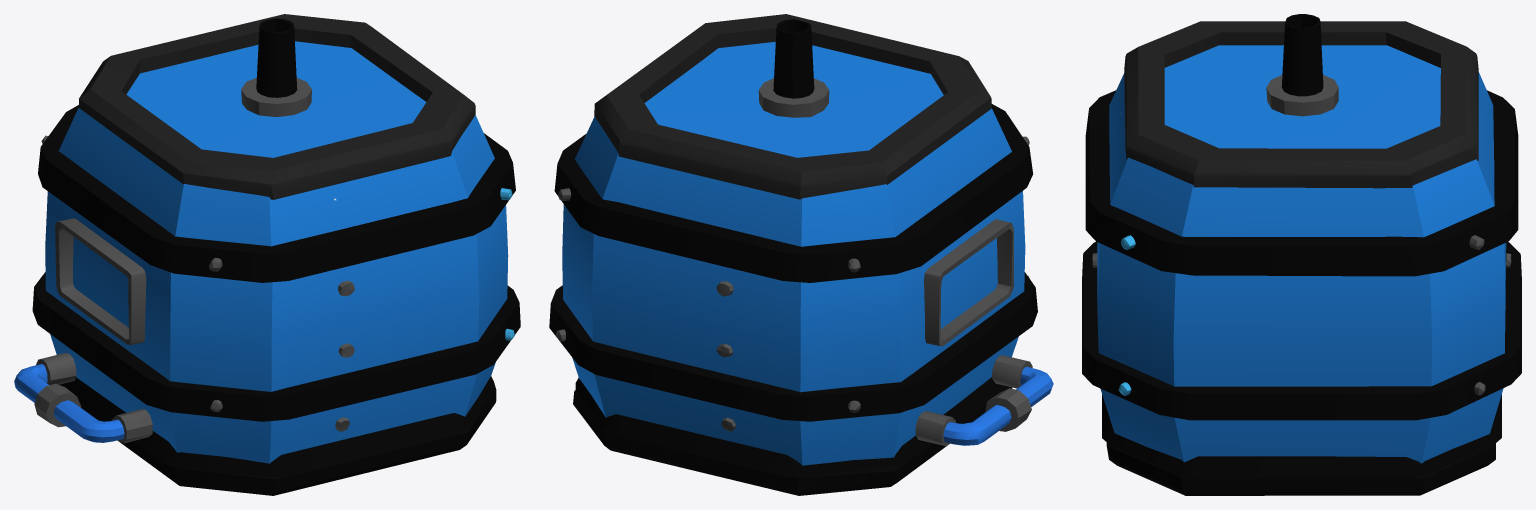
File: heist1.fbx
The picture shows the model from 3 angles, left to right: view 1: azimuth 30°, elevation 25°; view 2: azimuth 150°, elevation 25°; view 3: azimuth 270°, elevation 25°; orthographic projection. The views are drawn at different scales.
Visible parts, largest first — view 1: mesh_node.032, mesh_node.012, mesh_node.019, mesh_node.001, mesh_node.026, mesh_node.006, mesh_node.007, mesh_node.009, mesh_node.004, mesh_node.025, mesh_node.013, mesh_node.029 (+1 smaller); view 2: mesh_node.032, mesh_node.012, mesh_node.019, mesh_node.001, mesh_node.026, mesh_node.006, mesh_node.007, mesh_node.009, mesh_node.004, mesh_node.025, mesh_node.013, mesh_node.023 (+1 smaller); view 3: mesh_node.032, mesh_node.012, mesh_node.019, mesh_node.001, mesh_node.026, mesh_node.006, mesh_node.009, mesh_node.025.
Boxes of the visible parts, x1,y1,x2,y2 form: mesh_node.032: (45, 41, 508, 463); mesh_node.012: (79, 14, 475, 199); mesh_node.019: (38, 105, 515, 282); mesh_node.001: (32, 272, 520, 421); mesh_node.026: (59, 376, 496, 476); mesh_node.006: (78, 391, 496, 495); mesh_node.007: (55, 218, 146, 344); mesh_node.009: (256, 18, 297, 97); mesh_node.004: (14, 364, 124, 442); mesh_node.025: (241, 78, 311, 116); mesh_node.013: (34, 383, 81, 427); mesh_node.029: (111, 409, 152, 443); mesh_node.032: (562, 41, 1025, 465); mesh_node.012: (594, 14, 991, 199); mesh_node.019: (554, 104, 1032, 282); mesh_node.001: (549, 272, 1037, 421); mesh_node.026: (575, 377, 1011, 477); mesh_node.006: (573, 387, 1012, 495); mesh_node.007: (924, 219, 1013, 346); mesh_node.009: (773, 19, 814, 98); mesh_node.004: (943, 366, 1053, 445); mesh_node.025: (758, 78, 829, 117); mesh_node.013: (985, 388, 1031, 431); mesh_node.023: (915, 411, 955, 446); mesh_node.032: (1097, 45, 1506, 463); mesh_node.012: (1124, 21, 1478, 188); mesh_node.019: (1085, 90, 1518, 276); mesh_node.001: (1082, 241, 1521, 420); mesh_node.026: (1102, 394, 1501, 478); mesh_node.006: (1106, 442, 1495, 495); mesh_node.009: (1281, 14, 1323, 96); mesh_node.025: (1266, 75, 1338, 116).
Bounding box in the file's own units: 83.79 × 73.44 × 73.24.
